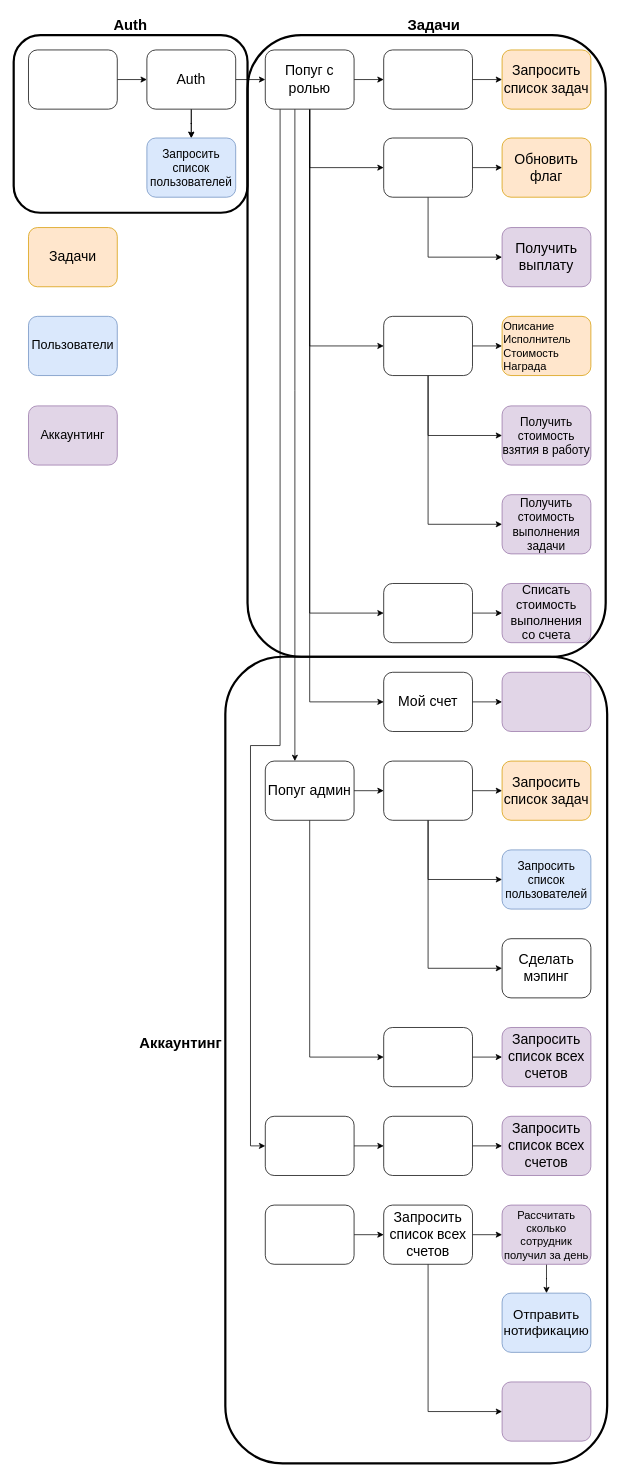
Some shapes in this 621 by 1477 pixel diagram are drawn without their labels. Each missing label, with the box of its shape:
Админ или бухгалтер: (265, 1116, 354, 1175)
Аналитика: (383, 1027, 472, 1087)
Заассайнить задачи: (383, 760, 472, 820)
Задача выполнена: (383, 137, 472, 197)
Запросить информацию: (501, 672, 591, 731)
Наступление конца дня: (265, 1204, 354, 1264)
Обнулить баланс: (501, 1381, 591, 1441)
Получить задачу: (383, 583, 472, 643)
Попуг: (28, 49, 117, 109)
Создал новую задачу: (383, 316, 472, 376)
Список задач: (383, 49, 472, 109)
Статистика по счетам: (383, 1116, 472, 1175)
